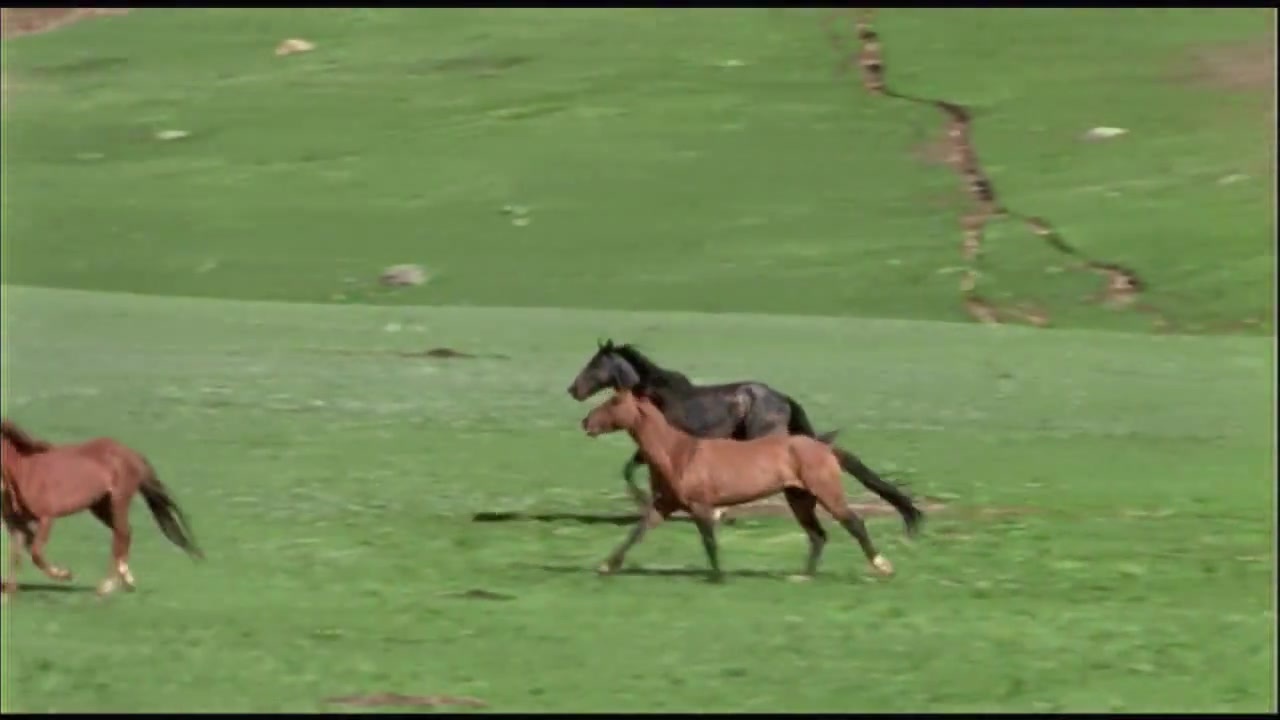horse: (581, 385, 927, 583)
